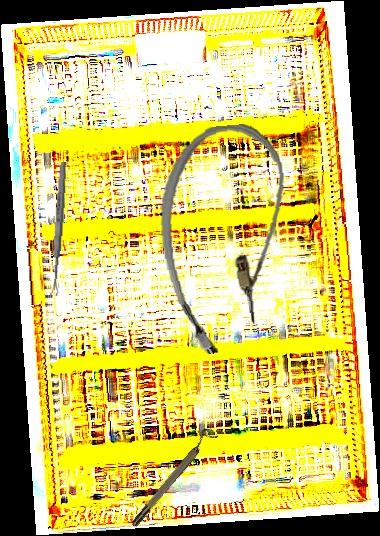Cannula: (152, 120, 301, 358)
Fixation Ring: (125, 424, 219, 530)
Surgical Spoon: (49, 161, 68, 297)
